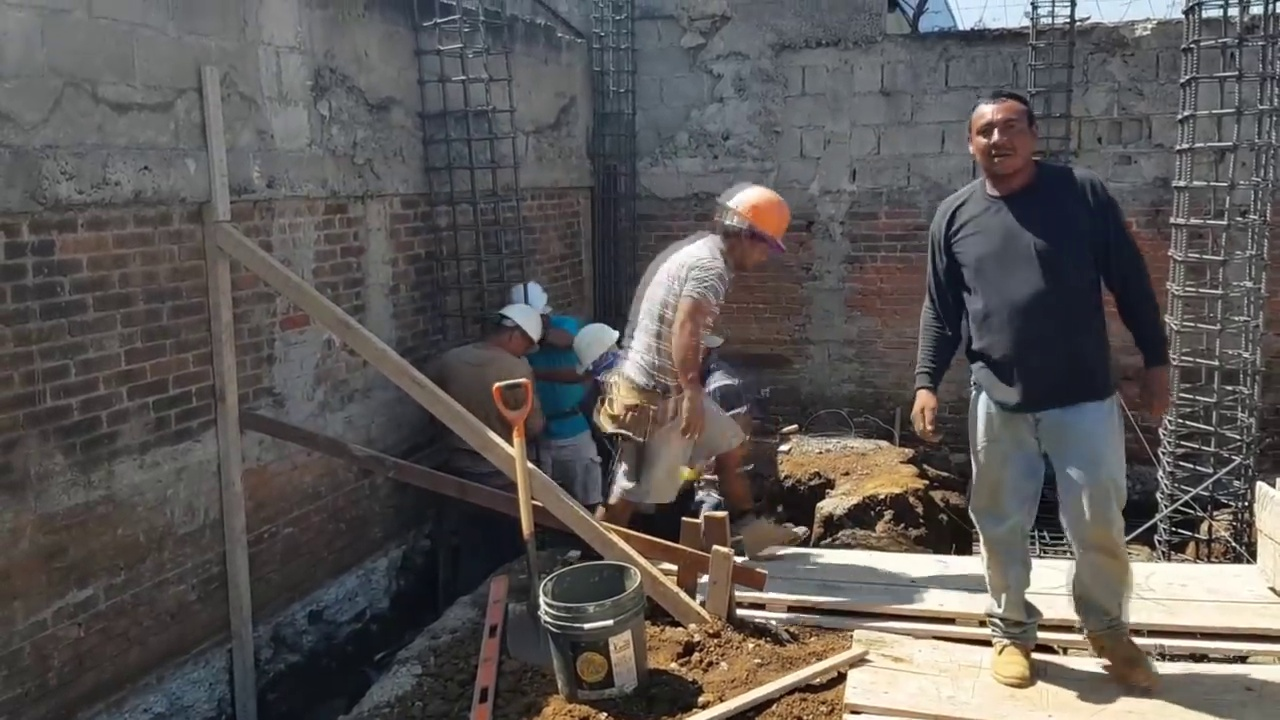helmet: (713, 184, 787, 249), (497, 302, 543, 347), (509, 280, 549, 308)
helmet-off: (972, 86, 1050, 192)
helmet-on: (708, 179, 795, 278), (471, 301, 543, 356), (571, 323, 622, 389), (524, 319, 563, 380)
person: (914, 85, 1180, 707), (617, 181, 793, 612), (502, 280, 609, 507), (423, 301, 544, 492), (524, 320, 616, 490)
